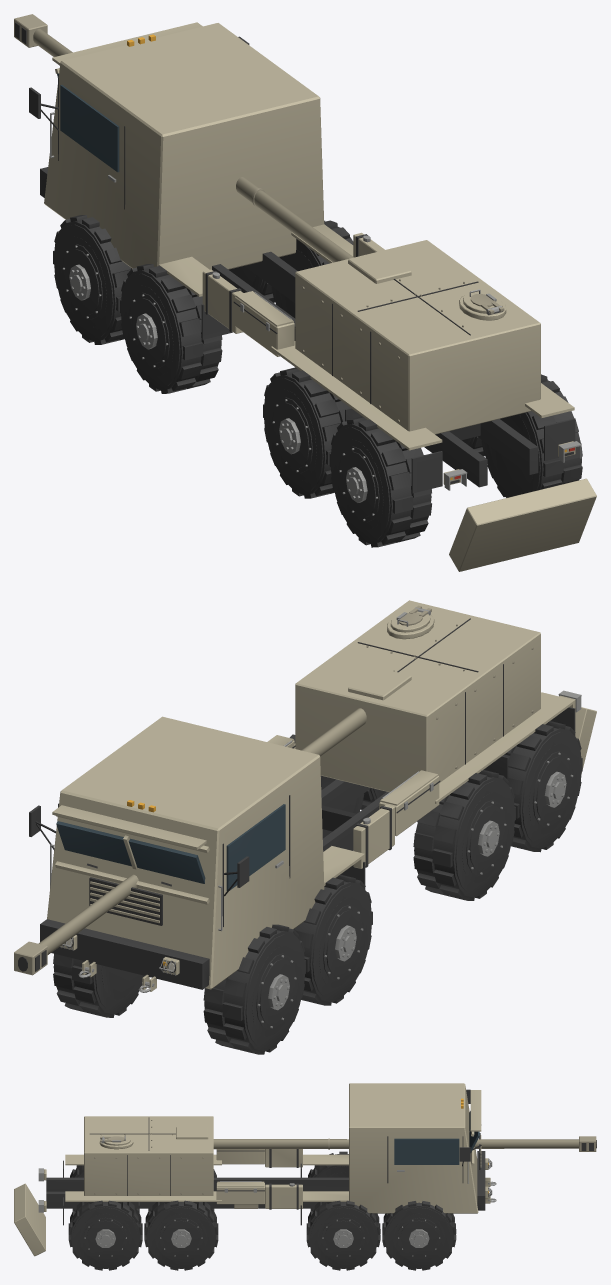
The model's file is rus_spg_malva.glb.
The picture shows the model from 3 angles, top to bottom: view 1: azimuth 30°, elevation 25°; view 2: azimuth 150°, elevation 25°; view 3: azimuth 270°, elevation 25°; orthographic projection. The views are drawn at different scales.
Parts seen in each view (by area): view 1: body, turret, barrel, wheel_6, wheel_2, wheel_4, wheel_0, wheel_7, wheel_3; view 2: body, turret, wheel_4, wheel_0, wheel_6, wheel_2, barrel, wheel_1; view 3: body, turret, barrel, wheel_5, wheel_7, wheel_3, wheel_1, wheel_2.
Part boxes in pixels (left/top/right/bottom): body: left=29, top=22, right=581, bottom=493; turret: left=295, top=240, right=540, bottom=434; barrel: left=14, top=14, right=596, bottom=571; wheel_6: left=329, top=416, right=431, bottom=547; wheel_2: left=120, top=264, right=222, bottom=393; wheel_4: left=263, top=367, right=350, bottom=498; wheel_0: left=53, top=215, right=131, bottom=344; wheel_7: left=481, top=374, right=582, bottom=497; wheel_3: left=271, top=220, right=353, bottom=318; body: left=29, top=690, right=581, bottom=992; turret: left=295, top=600, right=540, bottom=792; wheel_4: left=413, top=770, right=515, bottom=900; wheel_0: left=203, top=924, right=305, bottom=1054; wheel_6: left=502, top=721, right=582, bottom=852; wheel_2: left=294, top=874, right=372, bottom=1005; barrel: left=14, top=667, right=596, bottom=975; wheel_1: left=53, top=953, right=144, bottom=1017; body: left=38, top=1083, right=496, bottom=1225; turret: left=84, top=1116, right=213, bottom=1195; barrel: left=14, top=1127, right=596, bottom=1256; wheel_5: left=144, top=1200, right=218, bottom=1270; wheel_7: left=68, top=1200, right=142, bottom=1270; wheel_3: left=306, top=1200, right=380, bottom=1270; wheel_1: left=382, top=1201, right=456, bottom=1270; wheel_2: left=308, top=1151, right=348, bottom=1211.
Bounding box in the file's own units: 2.55 × 2.9 × 10.79.
